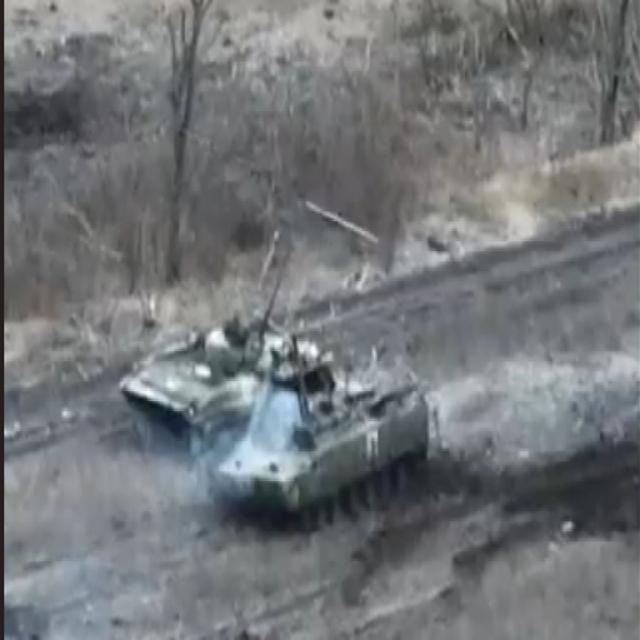APC-IFV: (205, 362, 436, 514), (130, 291, 334, 451)
